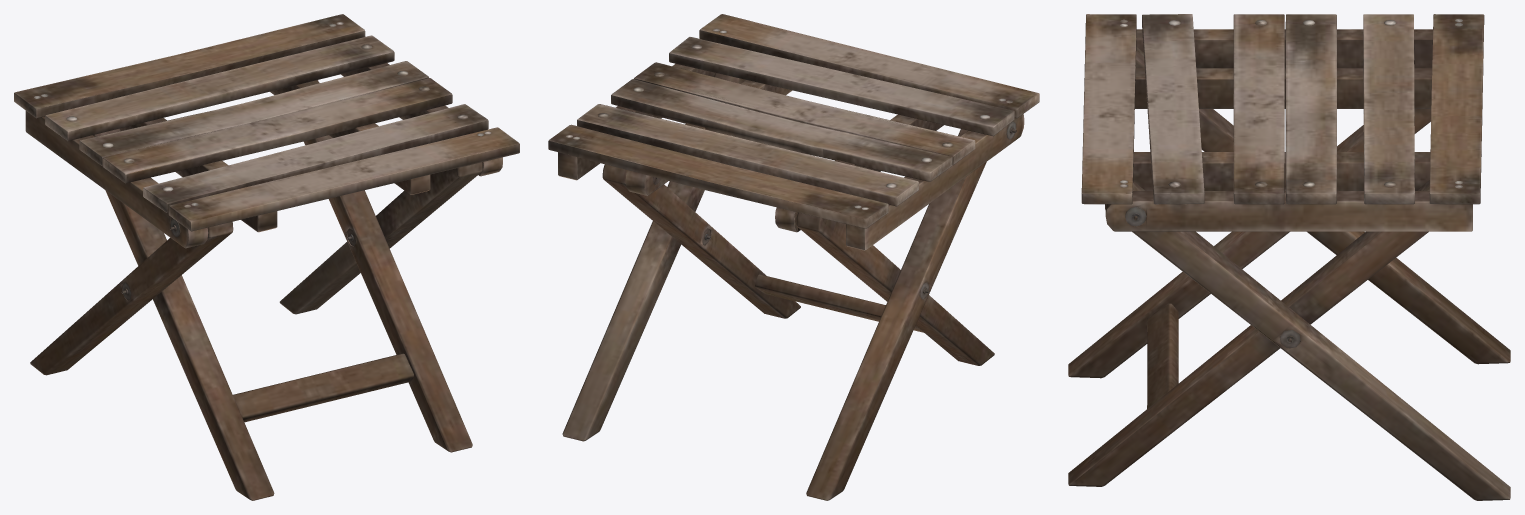
Rendered from folding_wooden_stool.glb.
The picture shows the model from 3 angles, left to right: view 1: azimuth 30°, elevation 25°; view 2: azimuth 150°, elevation 25°; view 3: azimuth 270°, elevation 25°; orthographic projection. The views are drawn at different scales.
Parts seen in each view (by area): view 1: folding_wooden_stool; view 2: folding_wooden_stool; view 3: folding_wooden_stool.
Boxes of the visible parts, x1=… form: folding_wooden_stool: x1=14, y1=14, x2=519, y2=500; folding_wooden_stool: x1=548, y1=14, x2=1039, y2=500; folding_wooden_stool: x1=1068, y1=14, x2=1510, y2=500.
Size of the model in its own units: 0.5274 by 0.442 by 0.5471.
Materials: 1 (1 with a texture image).
